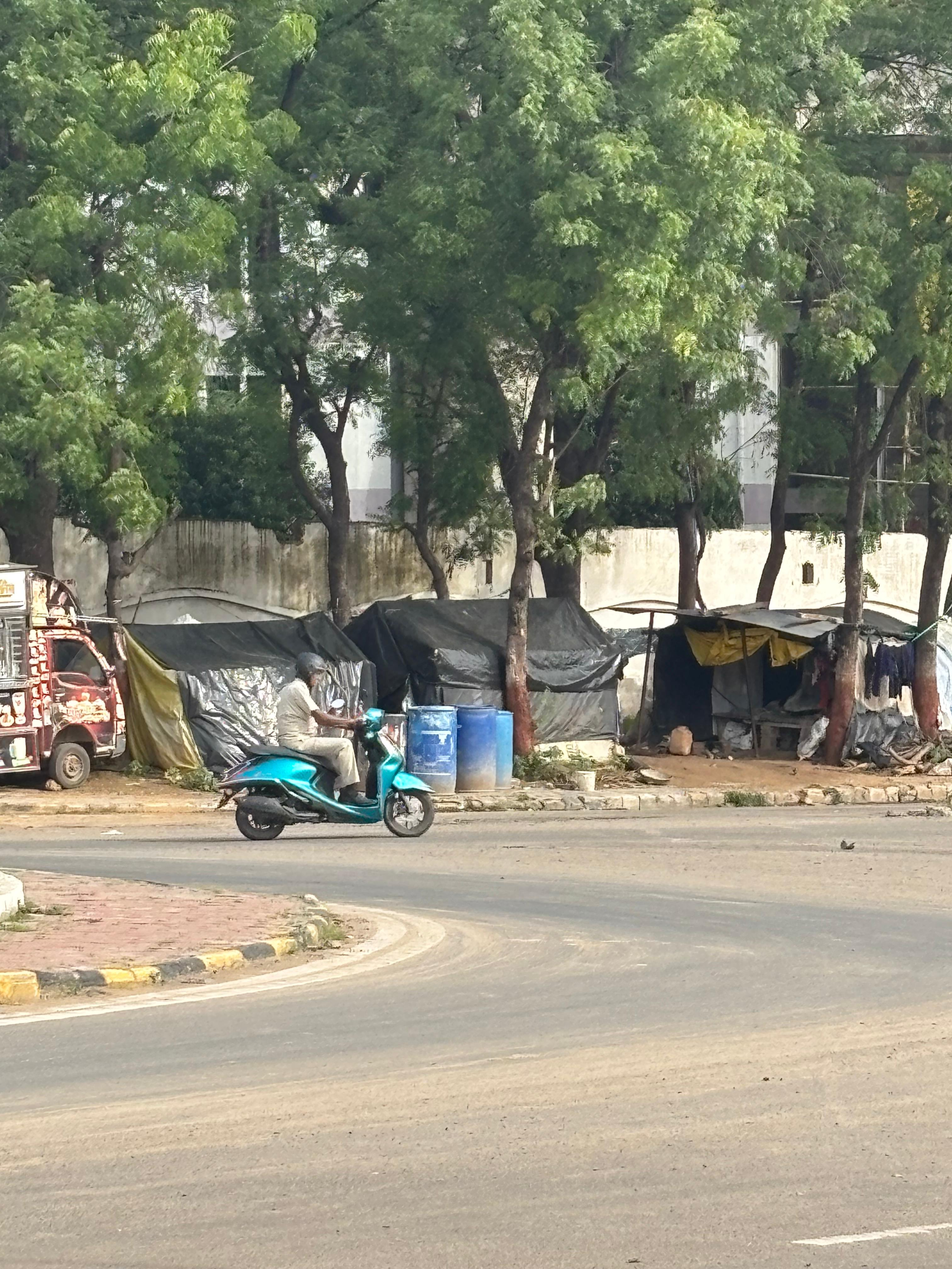BikeWithRider: (216, 648, 440, 842)
Helmet: (290, 651, 330, 695)
